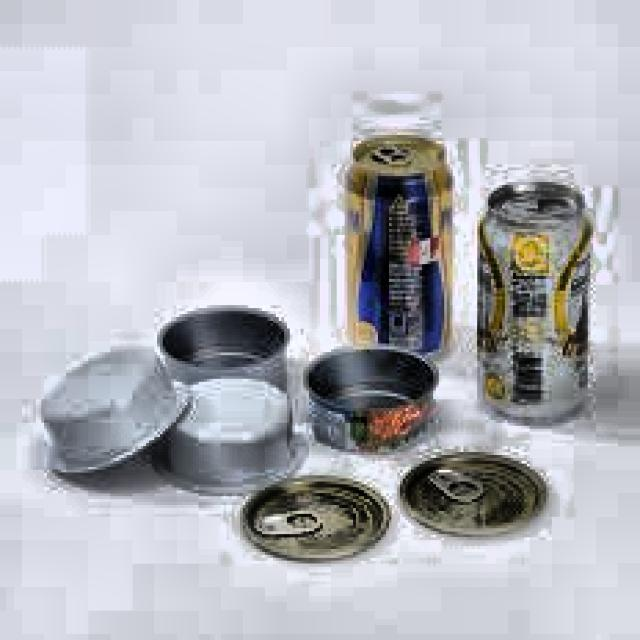can: (470, 171, 595, 435), (339, 124, 459, 368), (302, 338, 442, 459), (238, 470, 393, 578), (393, 444, 559, 544), (152, 292, 295, 404)
